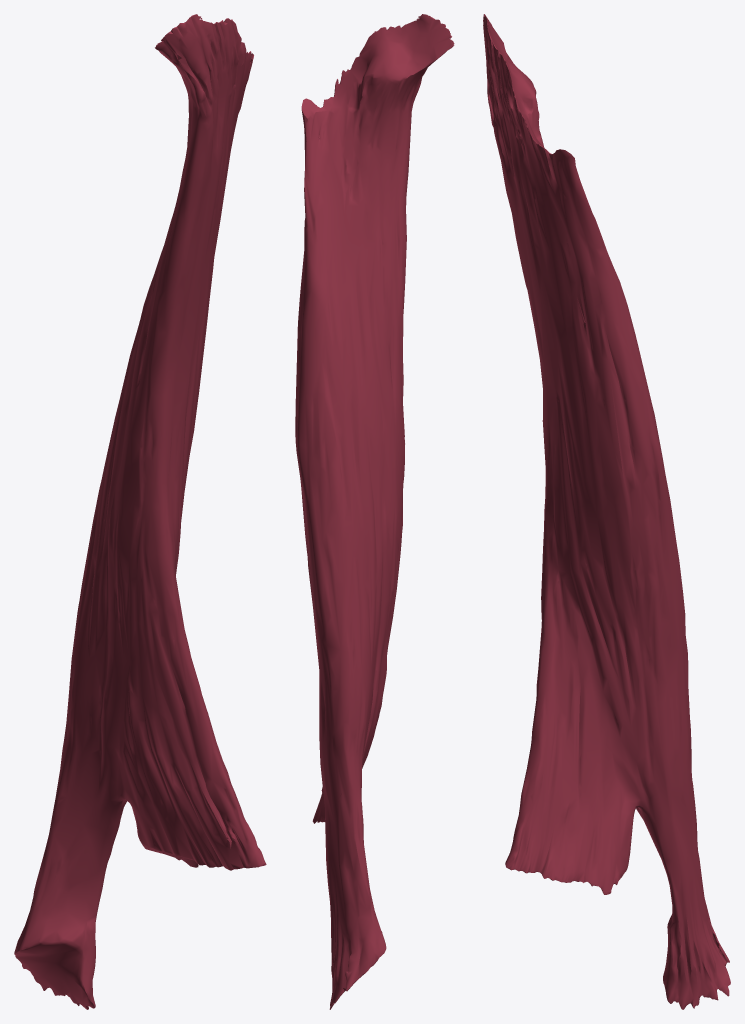
Rendered from modelo.glb.
3 renders of one model, left to right at view 1: azimuth 30°, elevation 25°; view 2: azimuth 150°, elevation 25°; view 3: azimuth 270°, elevation 25°, orthographic. The views are drawn at different scales.
Parts seen in each view (by area): view 1: muscle.001; view 2: muscle.001; view 3: muscle.001.
Part boxes in pixels (box(x1,y1,x2,y2)): muscle.001: box(14, 14, 266, 1009); muscle.001: box(295, 14, 454, 1009); muscle.001: box(483, 14, 730, 1009).
Bounding box in the file's own units: 0.3457 × 2.15 × 0.4859.
